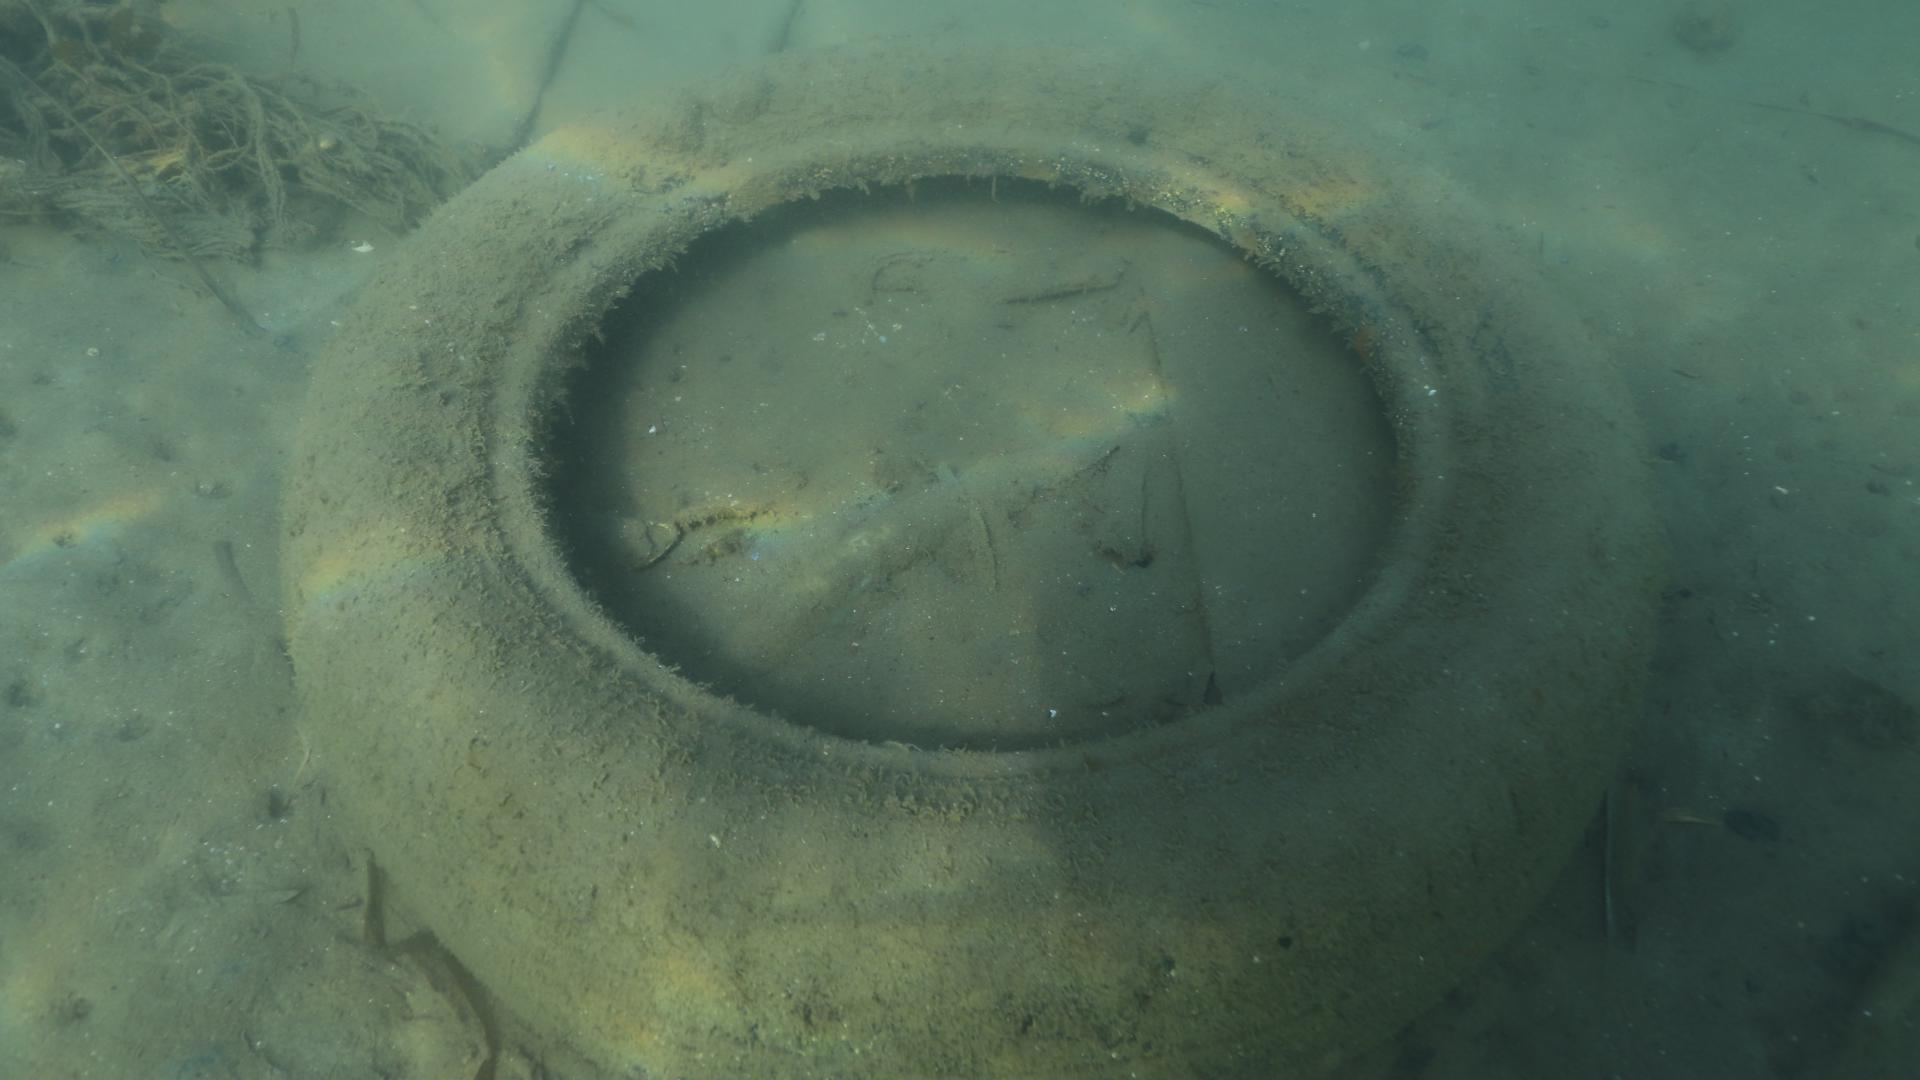tire: (280, 26, 1658, 1080)
